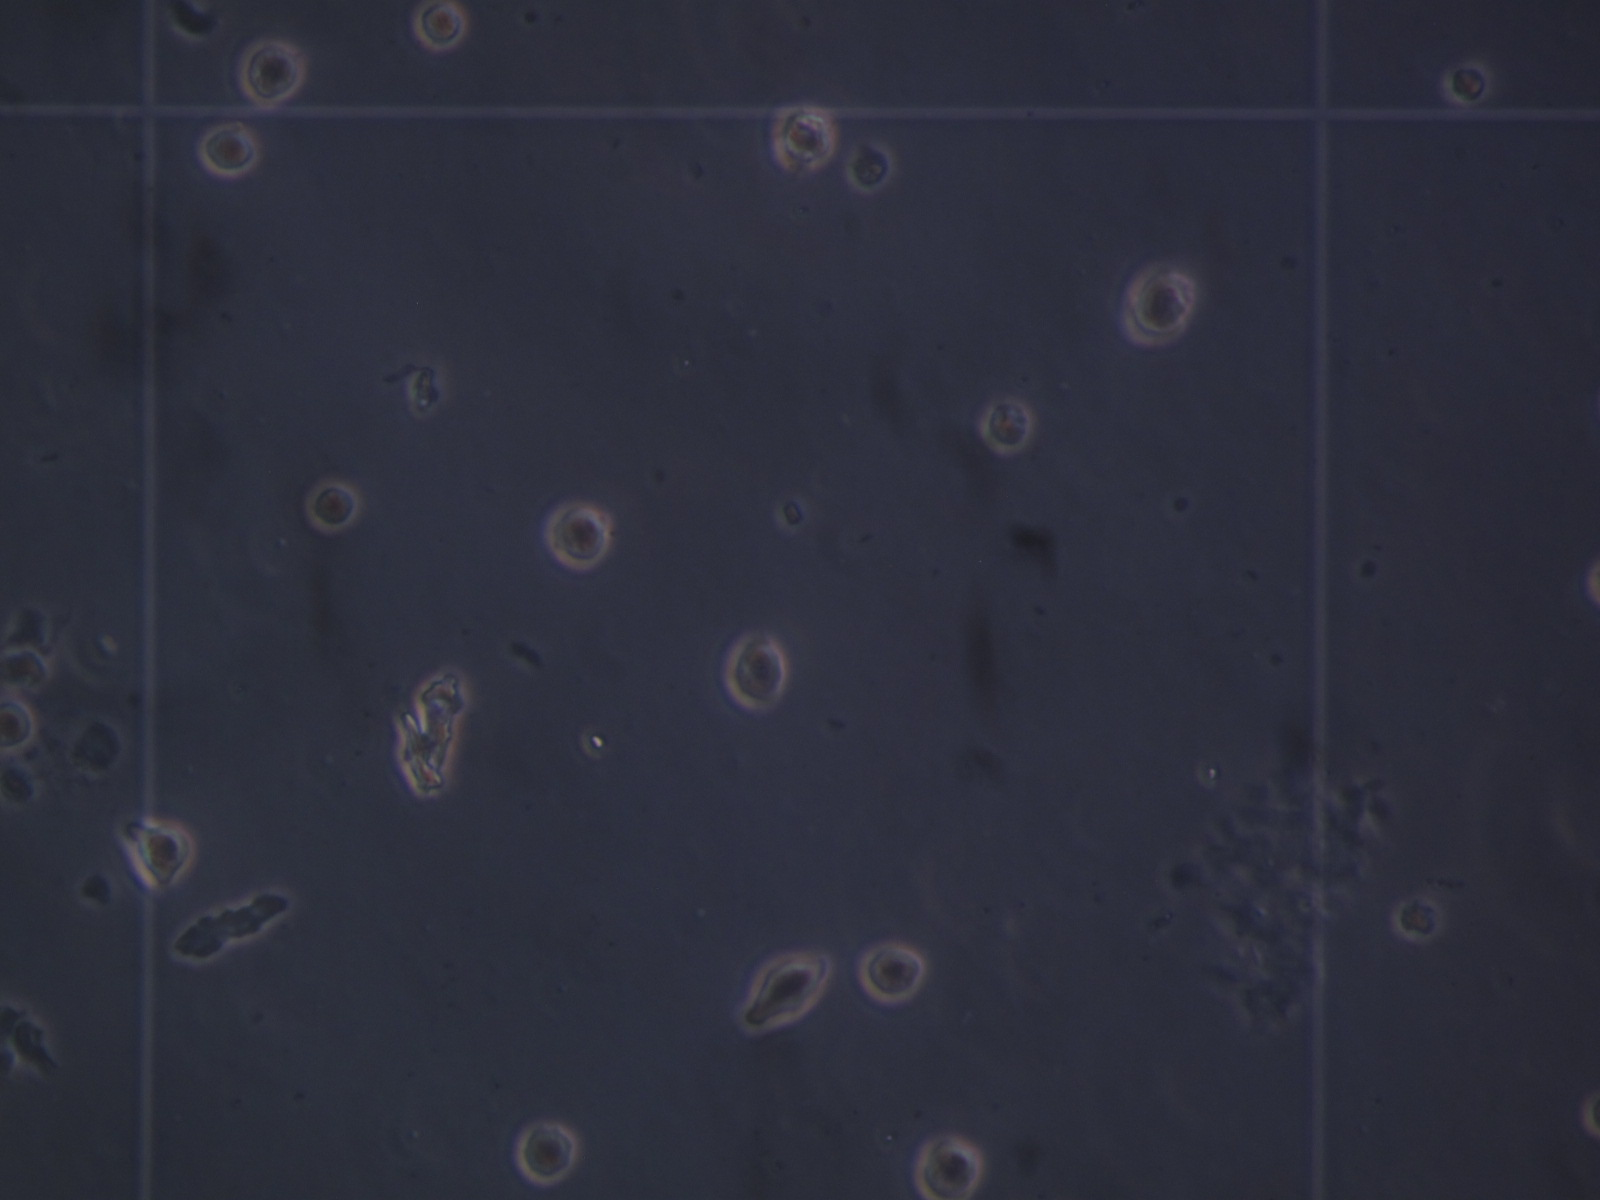hemo: (741, 953, 826, 1032), (1123, 265, 1197, 345), (726, 632, 786, 715), (236, 37, 305, 105), (862, 937, 929, 1005), (915, 1134, 984, 1200), (774, 102, 838, 171), (546, 500, 609, 568), (517, 1118, 577, 1187), (132, 824, 198, 886), (306, 478, 359, 536), (981, 395, 1033, 454), (202, 125, 260, 174), (847, 140, 896, 194), (413, 1, 466, 50), (1441, 58, 1495, 105), (1393, 896, 1443, 942), (1, 695, 38, 754), (1, 647, 47, 691)
